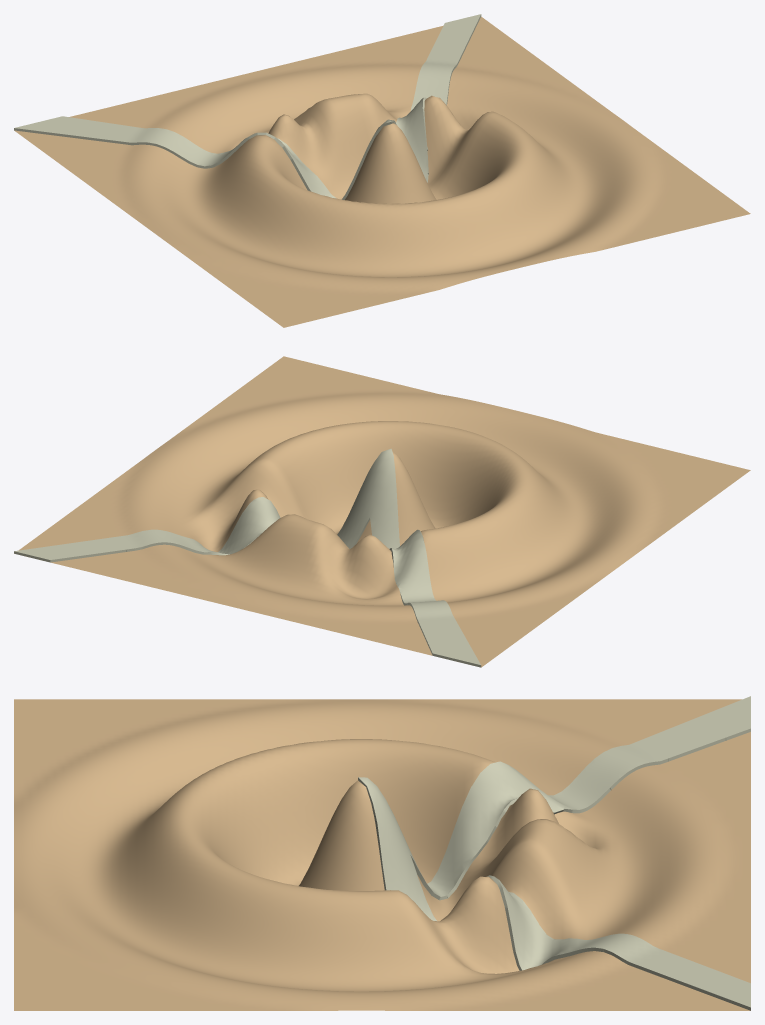
Rendered from hill 6-9-2018 .fbx.
3 views of the same model, one above another, from view 1: azimuth 30°, elevation 25°; view 2: azimuth 150°, elevation 25°; view 3: azimuth 270°, elevation 25° (orthographic). The views are drawn at different scales.
Parts seen in each view (by area): view 1: pPlane2, pPlane1; view 2: pPlane2, pPlane1; view 3: pPlane2, pPlane1.
Boxes of the visible parts, bbox=[...] form: pPlane2: bbox=[14, 16, 750, 327]; pPlane1: bbox=[14, 14, 481, 199]; pPlane2: bbox=[18, 356, 750, 667]; pPlane1: bbox=[14, 448, 481, 667]; pPlane2: bbox=[14, 699, 750, 1010]; pPlane1: bbox=[358, 696, 750, 1010].
Size of the model in its own units: 1.7 by 0.3456 by 1.7.
